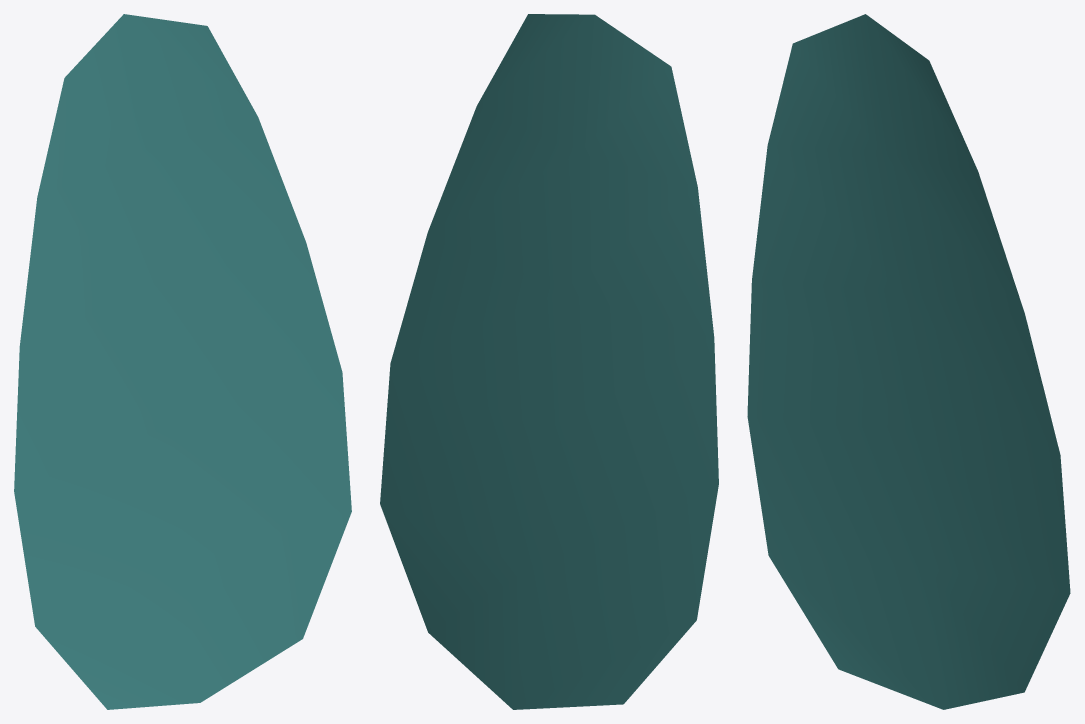
File: budgie_feather_flight_tertiary_049.obj
The picture shows the model from 3 angles, left to right: view 1: azimuth 30°, elevation 25°; view 2: azimuth 150°, elevation 25°; view 3: azimuth 330°, elevation 25°; orthographic projection. The views are drawn at different scales.
Parts seen in each view (by area): view 1: feather_flight_tertiary_049; view 2: feather_flight_tertiary_049; view 3: feather_flight_tertiary_049.
Part boxes in pixels (x1,y1,x2,y2): feather_flight_tertiary_049: (14, 14, 351, 709); feather_flight_tertiary_049: (380, 14, 718, 709); feather_flight_tertiary_049: (747, 14, 1070, 709).
Bounding box in the file's own units: 0.00728 × 0.0146 × 0.000414.
